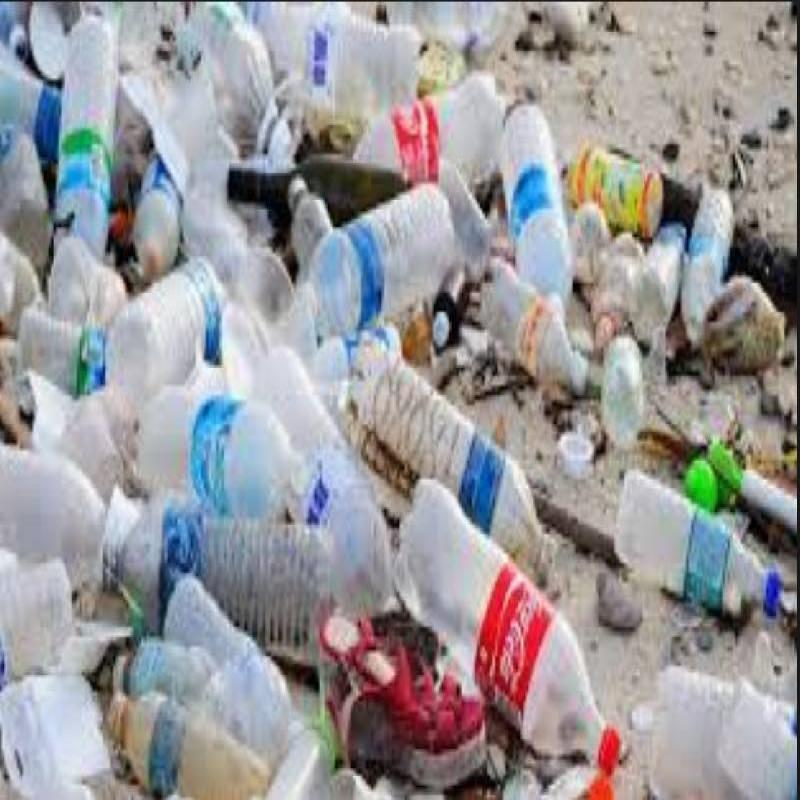botella: (394, 474, 620, 764), (365, 353, 563, 572), (99, 496, 345, 662), (250, 346, 399, 613), (609, 462, 789, 630), (289, 184, 461, 347), (162, 563, 295, 748), (135, 385, 307, 526), (347, 67, 514, 211), (106, 243, 231, 430), (243, 0, 436, 115), (0, 426, 112, 594), (498, 83, 577, 316), (113, 684, 265, 800), (189, 0, 295, 162), (56, 12, 121, 258), (483, 259, 596, 392), (3, 558, 84, 683), (16, 296, 117, 392), (126, 129, 184, 293), (112, 632, 231, 710), (686, 184, 741, 347), (0, 31, 67, 152), (2, 111, 51, 267), (636, 216, 691, 340), (599, 321, 647, 453), (2, 223, 50, 337), (282, 170, 337, 264), (598, 206, 640, 318), (570, 193, 612, 281)
